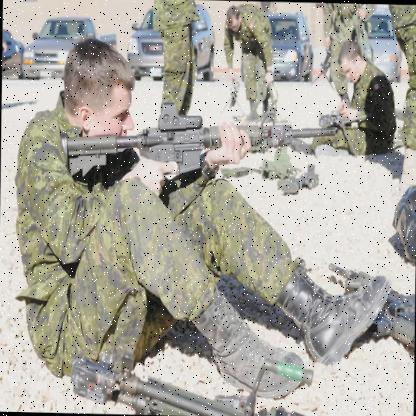rifle: (63, 109, 336, 179)
